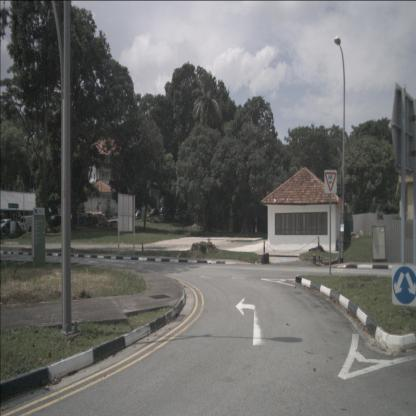cone: (141, 242, 144, 251)
